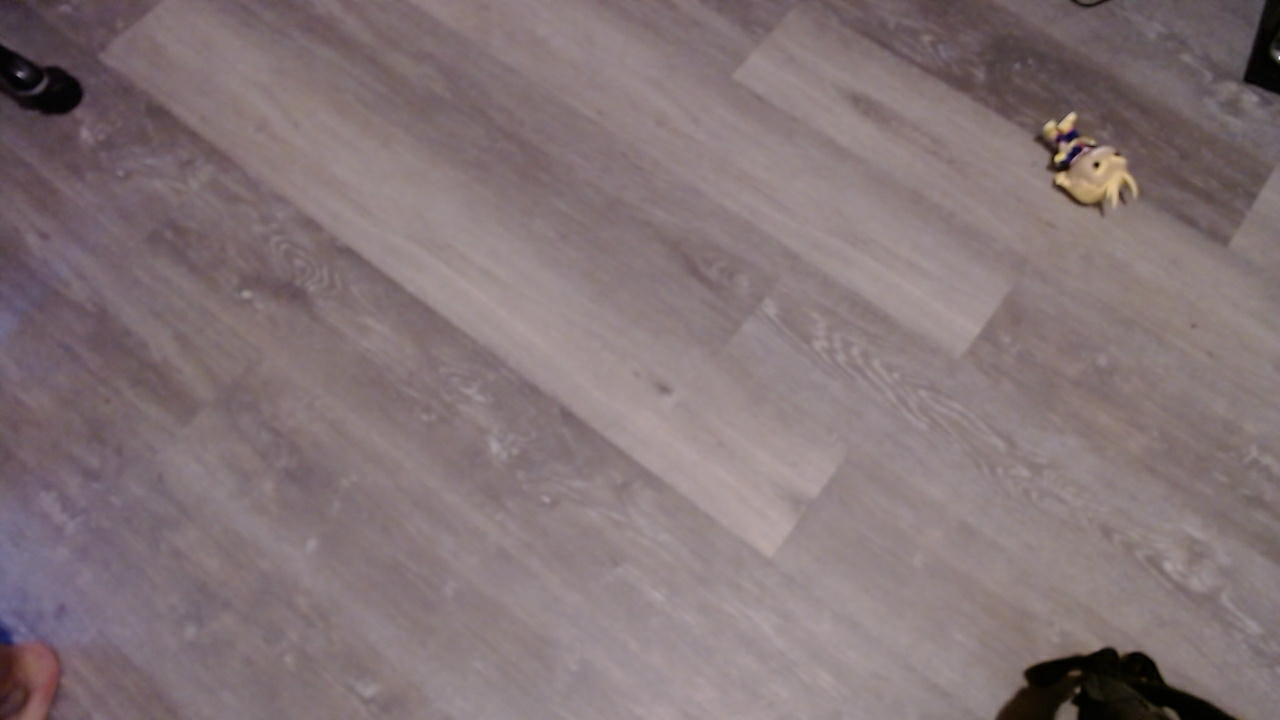all_might: (1039, 111, 1161, 237)
